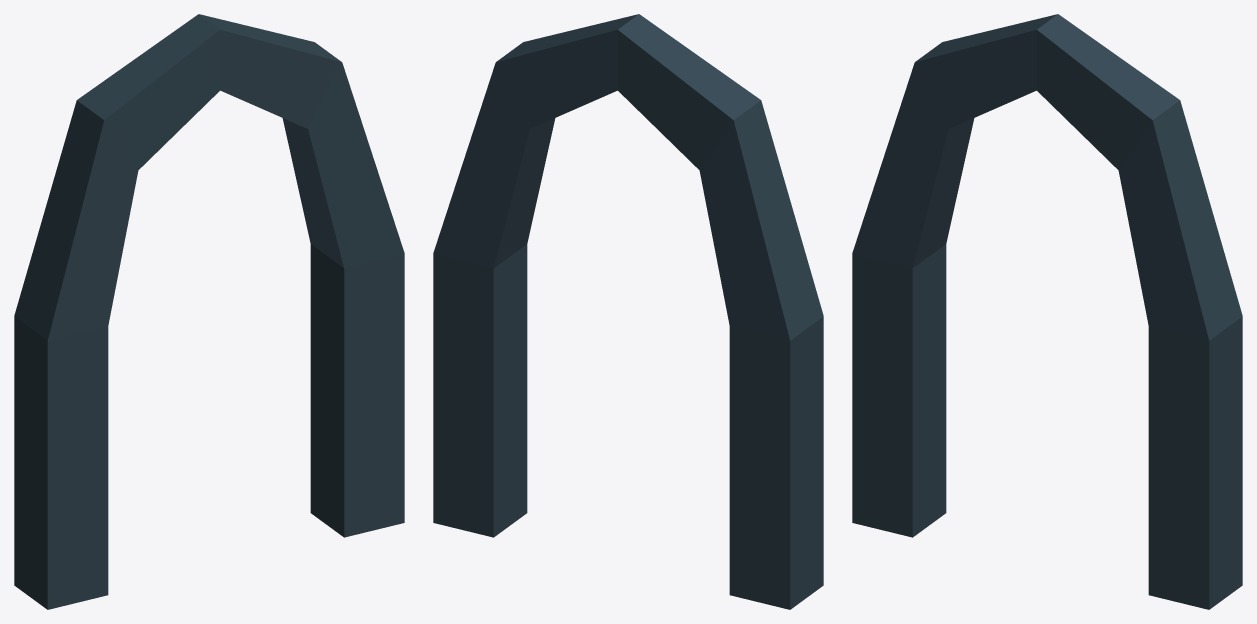
The model's file is kapı.fbx.
The picture shows the model from 3 angles, left to right: view 1: azimuth 30°, elevation 25°; view 2: azimuth 150°, elevation 25°; view 3: azimuth 330°, elevation 25°; orthographic projection.
Visible parts, largest first — view 1: Cube.003; view 2: Cube.003; view 3: Cube.003.
Boxes of the visible parts, left/top/right/bottom form: Cube.003: left=14, top=14, right=404, bottom=609; Cube.003: left=433, top=14, right=823, bottom=609; Cube.003: left=852, top=14, right=1242, bottom=609.
Size of the model in its own units: 543 by 773 by 88.38.
